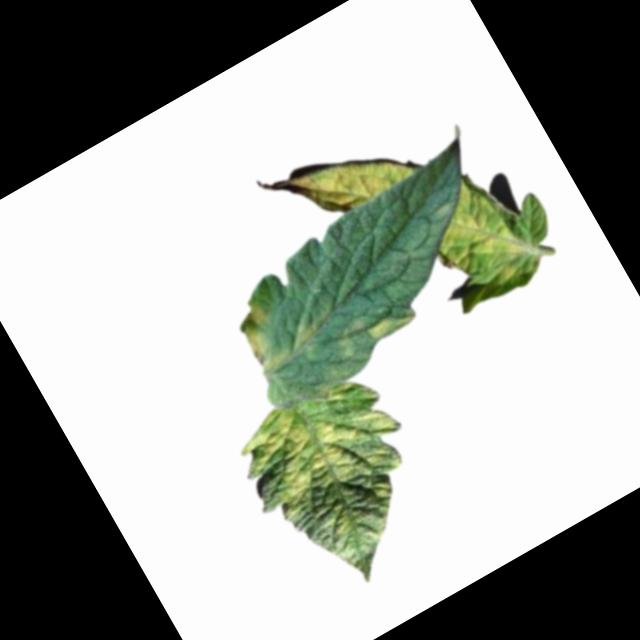Leaf_Mold: (230, 359, 415, 527), (282, 117, 415, 233), (412, 173, 528, 304), (226, 275, 329, 380), (329, 290, 415, 363)
